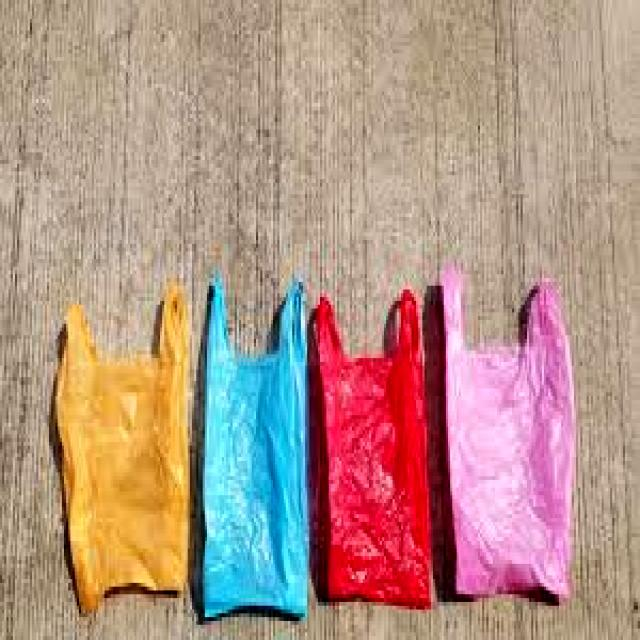Plastic: (439, 255, 578, 611), (309, 284, 436, 610), (201, 270, 309, 626)
Trash: (61, 323, 190, 610)
